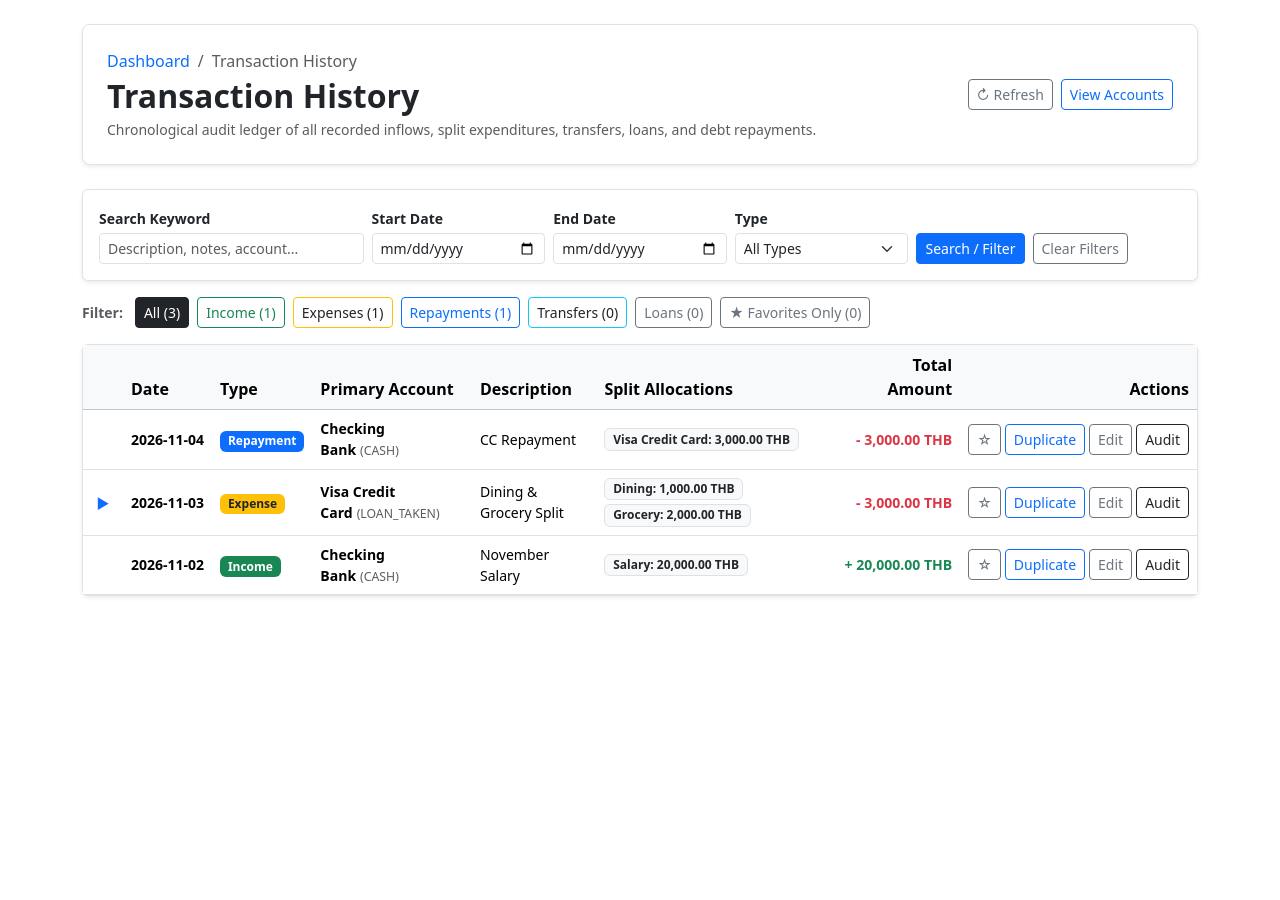
Frontend Transaction History Suite (WP-06, Feature F-09, AC-09-1) › TEST-UI-HIST-03: expands split allocation line details when clicking on multi-line transaction row
Note: Click purchase row to expand
Step 1. Click the row with test id "txn-row-tx-purchase" → click(640, 502), box [83,469,1197,535]
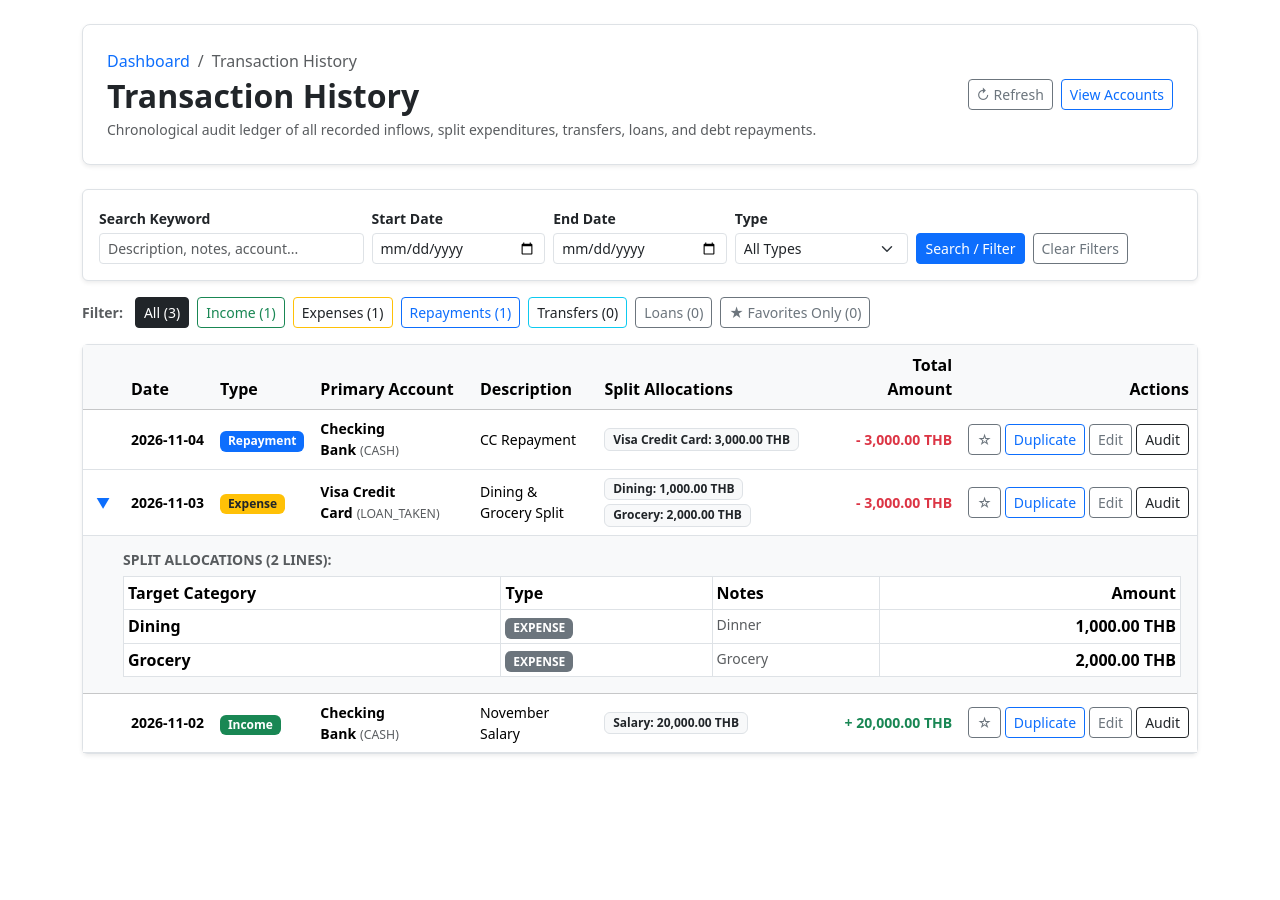
Expected: the row with test id "expanded-row-tx-purchase" is shown, [83,535,1197,693]
Expected: the row with test id "expanded-row-tx-purchase" shows "Dining", [128,615,181,637]
Expected: the row with test id "expanded-row-tx-purchase" shows "1,000.00 THB", [1076,615,1176,637]
